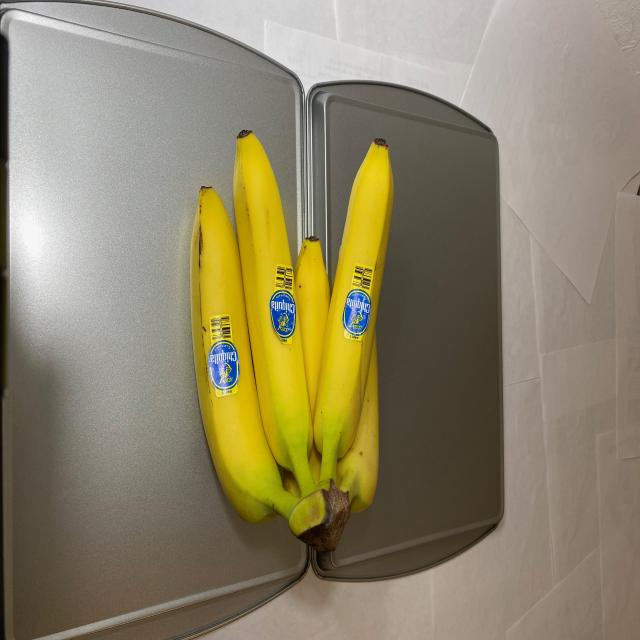banana: (187, 124, 404, 553)
